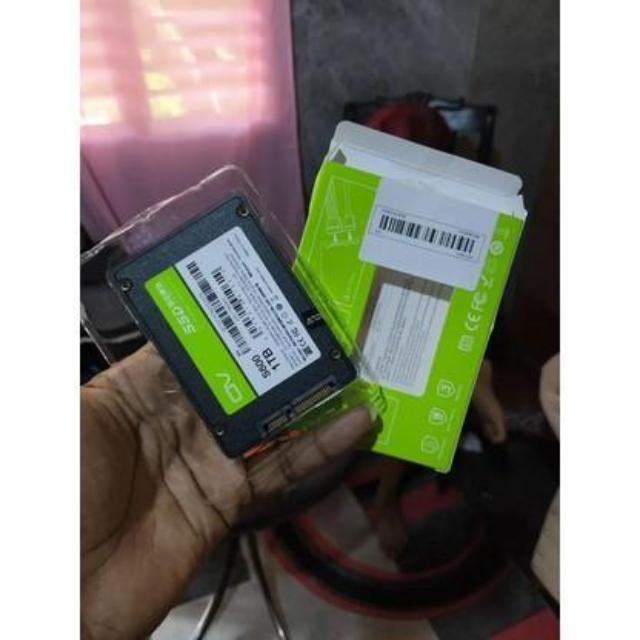DISK: (105, 191, 357, 446)
